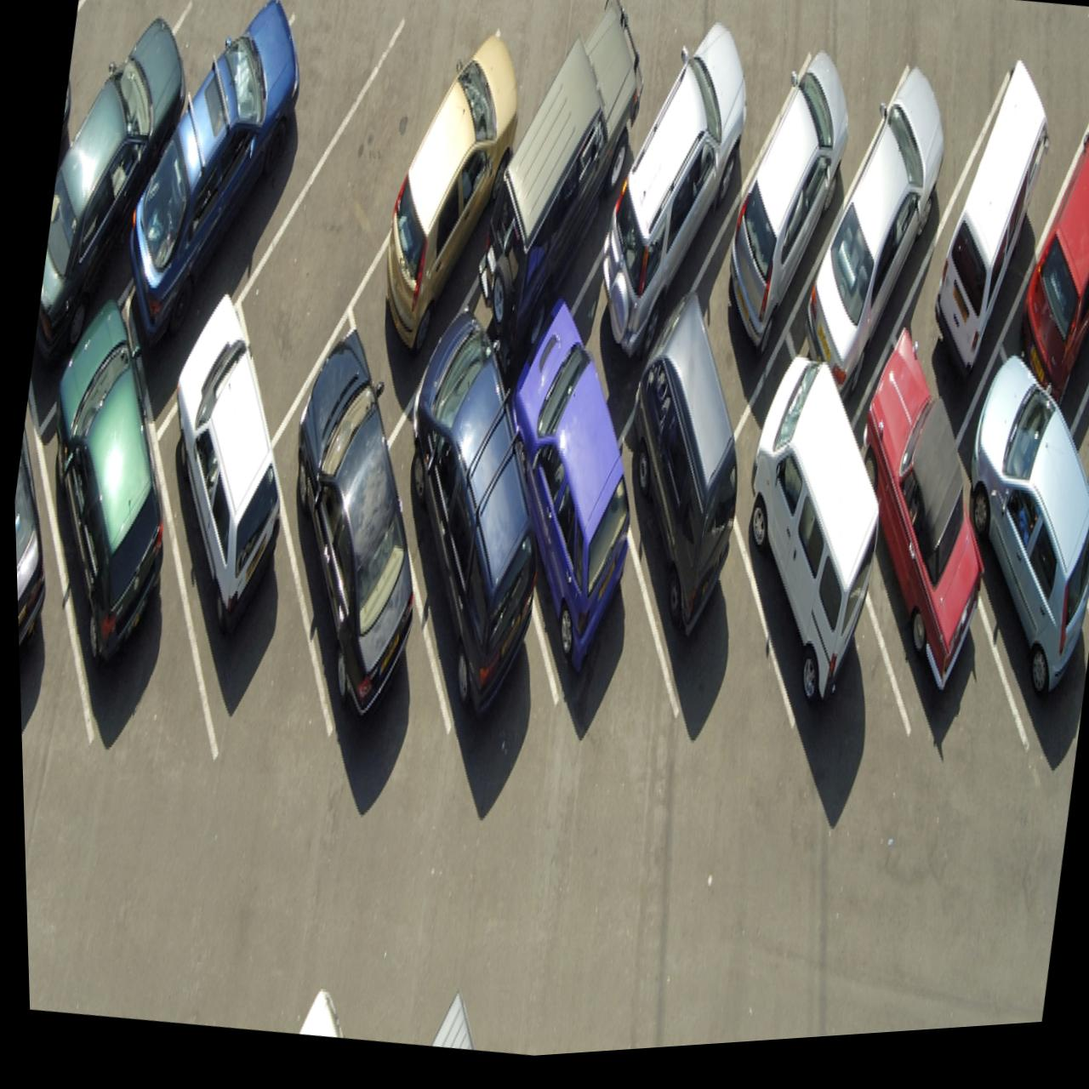cars: (665, 349, 922, 786), (220, 320, 468, 765), (788, 337, 1016, 807), (344, 331, 583, 754), (10, 326, 232, 778), (453, 342, 674, 761), (560, 353, 778, 744), (112, 360, 329, 736), (114, 0, 362, 310), (921, 359, 1089, 769), (566, 75, 764, 402), (29, 0, 221, 336), (467, 31, 650, 370), (349, 40, 537, 365), (900, 32, 1078, 365), (777, 75, 960, 393), (692, 67, 856, 354), (999, 77, 1089, 392)
empty: (233, 34, 451, 375)
